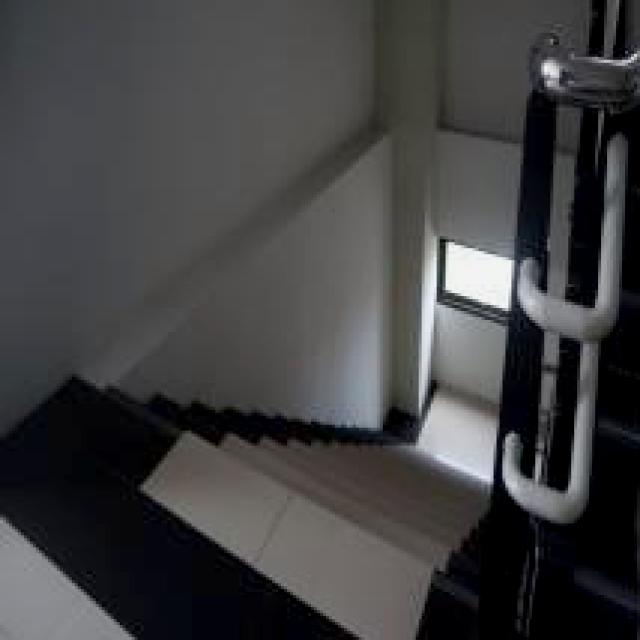downstair: (102, 455, 431, 640)
